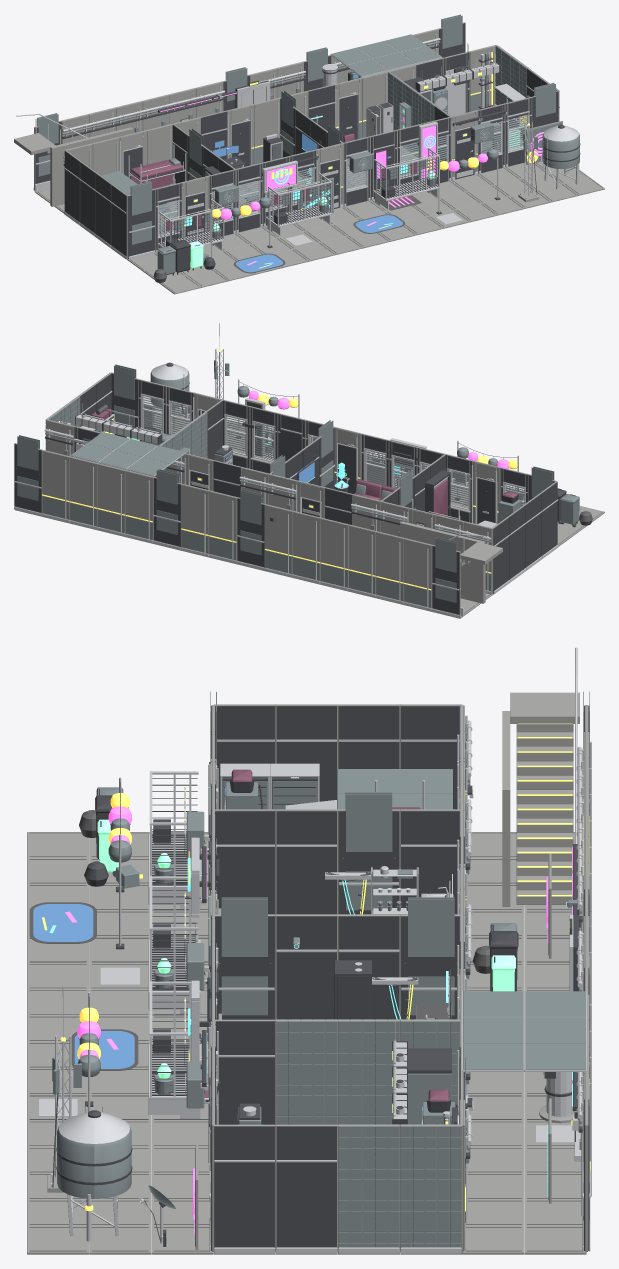
File: cyberpunk-apartment-and-neon-block-neon--5f3c4535-starter-scene.glb
The picture shows the model from 3 angles, top to bottom: view 1: azimuth 30°, elevation 25°; view 2: azimuth 150°, elevation 25°; view 3: azimuth 270°, elevation 25°; orthographic projection. The views are drawn at different scales.
Visible parts, largest first — view 1: 219-stair-core/0, 286-balcony-cage-with-drying-rail/0, 287-balcony-cage-with-drying-rail/0, 287-balcony-cage-with-drying-rail/1, 286-balcony-cage-with-drying-rail/1, 151-corridor-wall-run-with-pipes/0, 176-block-wall-module-panelled/2, 192-block-wall-module/1, 194-block-wall-module/1, 300-rooftop-water-tank/1, 195-block-wall-module/1, 193-block-wall-module/1 (+102 smaller); view 2: 219-stair-core/0, 169-corridor-wall-run-with-pipes/0, 162-corridor-wall-run-with-pipes/0, 164-corridor-wall-run-with-pipes/0, 171-corridor-wall-run-with-pipes/0, 168-corridor-wall-run-with-pipes/0, 163-corridor-wall-run-with-pipes/0, 161-corridor-wall-run-with-pipes/0, 173-corridor-wall-run-with-pipes/0, 166-corridor-wall-run-with-pipes/0, 172-corridor-wall-run-with-pipes/0, 174-corridor-wall-run-with-pipes/0 (+76 smaller); view 3: 219-stair-core/0, 209-block-wall-module-tiled/1, 208-block-wall-module-tiled/1, 211-block-wall-module/1, 210-block-wall-module/1, 206-block-wall-module-tiled/1, 198-block-wall-module/1, 202-block-wall-module/1, 205-block-wall-module-tiled/1, 207-block-wall-module/1, 199-block-wall-module/1, 203-block-wall-module-panelled/2 (+86 smaller).
Part boxes in pixels (x1,y1,x2,y2): 219-stair-core/0: (14,127,132,206); 286-balcony-cage-with-drying-rail/0: (265,172,332,235); 287-balcony-cage-with-drying-rail/0: (373,148,439,209); 287-balcony-cage-with-drying-rail/1: (375,151,438,198); 286-balcony-cage-with-drying-rail/1: (267,176,330,225); 151-corridor-wall-run-with-pipes/0: (254,97,280,164); 176-block-wall-module-panelled/2: (130,181,151,244); 192-block-wall-module/1: (64,151,81,222); 194-block-wall-module/1: (95,173,111,244); 300-rooftop-water-tank/1: (542,133,579,168); 195-block-wall-module/1: (111,185,126,258); 193-block-wall-module/1: (80,162,96,233); 219-stair-core/0: (400,521,502,603); 169-corridor-wall-run-with-pipes/0: (181,484,209,556); 162-corridor-wall-run-with-pipes/0: (376,531,404,603); 164-corridor-wall-run-with-pipes/0: (320,517,348,590); 171-corridor-wall-run-with-pipes/0: (125,470,153,542); 168-corridor-wall-run-with-pipes/0: (209,490,237,562); 163-corridor-wall-run-with-pipes/0: (348,524,376,594); 161-corridor-wall-run-with-pipes/0: (404,538,432,608); 173-corridor-wall-run-with-pipes/0: (70,456,98,528); 166-corridor-wall-run-with-pipes/0: (265,504,292,576); 172-corridor-wall-run-with-pipes/0: (98,463,125,533); 174-corridor-wall-run-with-pipes/0: (42,450,70,522); 219-stair-core/0: (502,692,579,906); 209-block-wall-module-tiled/1: (338,1124,399,1247); 208-block-wall-module-tiled/1: (400,1124,461,1247); 211-block-wall-module/1: (214,1126,274,1247); 210-block-wall-module/1: (276,1126,336,1247); 206-block-wall-module-tiled/1: (276,1019,337,1124); 198-block-wall-module/1: (276,811,336,914); 202-block-wall-module/1: (276,916,336,1019); 205-block-wall-module-tiled/1: (338,1019,399,1124); 207-block-wall-module/1: (216,1021,274,1124); 199-block-wall-module/1: (215,811,274,914); 203-block-wall-module-panelled/2: (221,897,267,1015).
Bounding box in the file's own units: 20.26 × 4.32 × 10.9.
